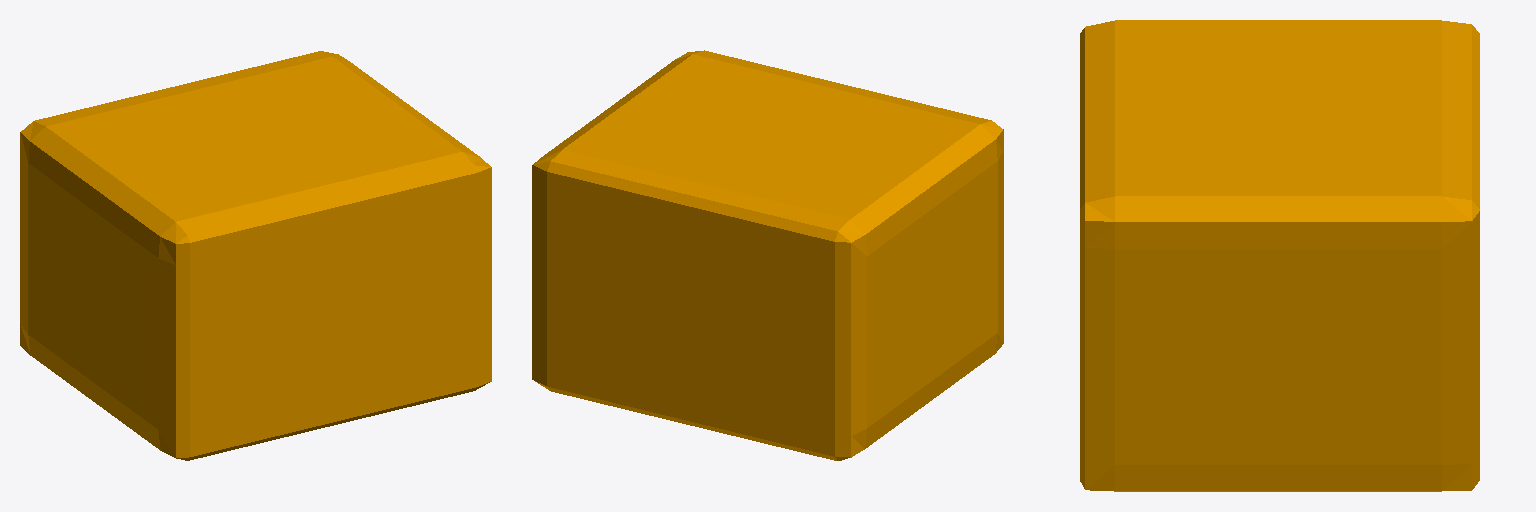
The robot description file, URDF, robot "cylinder_box_97":
<?xml version="1.0" encoding="utf-8"?>  <robot name="cylinder_box_97">   <link name="cylinder_box_97">     <visual>       <geometry>         <mesh filename="../meshes/box/box_97.stl" scale="1 1 1"/>       </geometry>     </visual>     <collision>       <geometry>         <mesh filename="../meshes/box/box_97.stl" scale="1 1 1"/>       </geometry>     </collision>     <inertial>        <origin         xyz="0 0 0"         rpy="0 0 0" />       <mass value="0.2875152638045127"/>       <origin rpy="0 0 0" xyz="0 0 0"/>       <inertia ixx="0.00017784023868089383" ixy="4.526164982488314e-08" ixz="2.6319849744605377e-08" iyy="0.00021759139150944593" iyz="-1.2267054703563243e-09" izz="0.0002544360538305705"/>     </inertial>   </link>  </robot>

--- Facts derived from the render (not from the file) ---
Views: 3 orthographic renders of the robot side by side, from view 1: azimuth 30°, elevation 25°; view 2: azimuth 150°, elevation 25°; view 3: azimuth 270°, elevation 25°.
Model cylinder_box_97 with 1 links and 0 joints (none), rooted at cylinder_box_97, posed every joint at zero.
Links seen in each view (by area): view 1: cylinder_box_97; view 2: cylinder_box_97; view 3: cylinder_box_97.
Link boxes in pixels (left/top/right/bottom): cylinder_box_97: left=20, top=51, right=491, bottom=460; cylinder_box_97: left=532, top=50, right=1003, bottom=460; cylinder_box_97: left=1080, top=20, right=1479, bottom=491.
Bounding box of the posed robot: 0.079 × 0.0674 × 0.0547 m (x, y, z).
Meshes: 1 distinct files referenced, 1 mesh visuals loaded (1 binary STL).